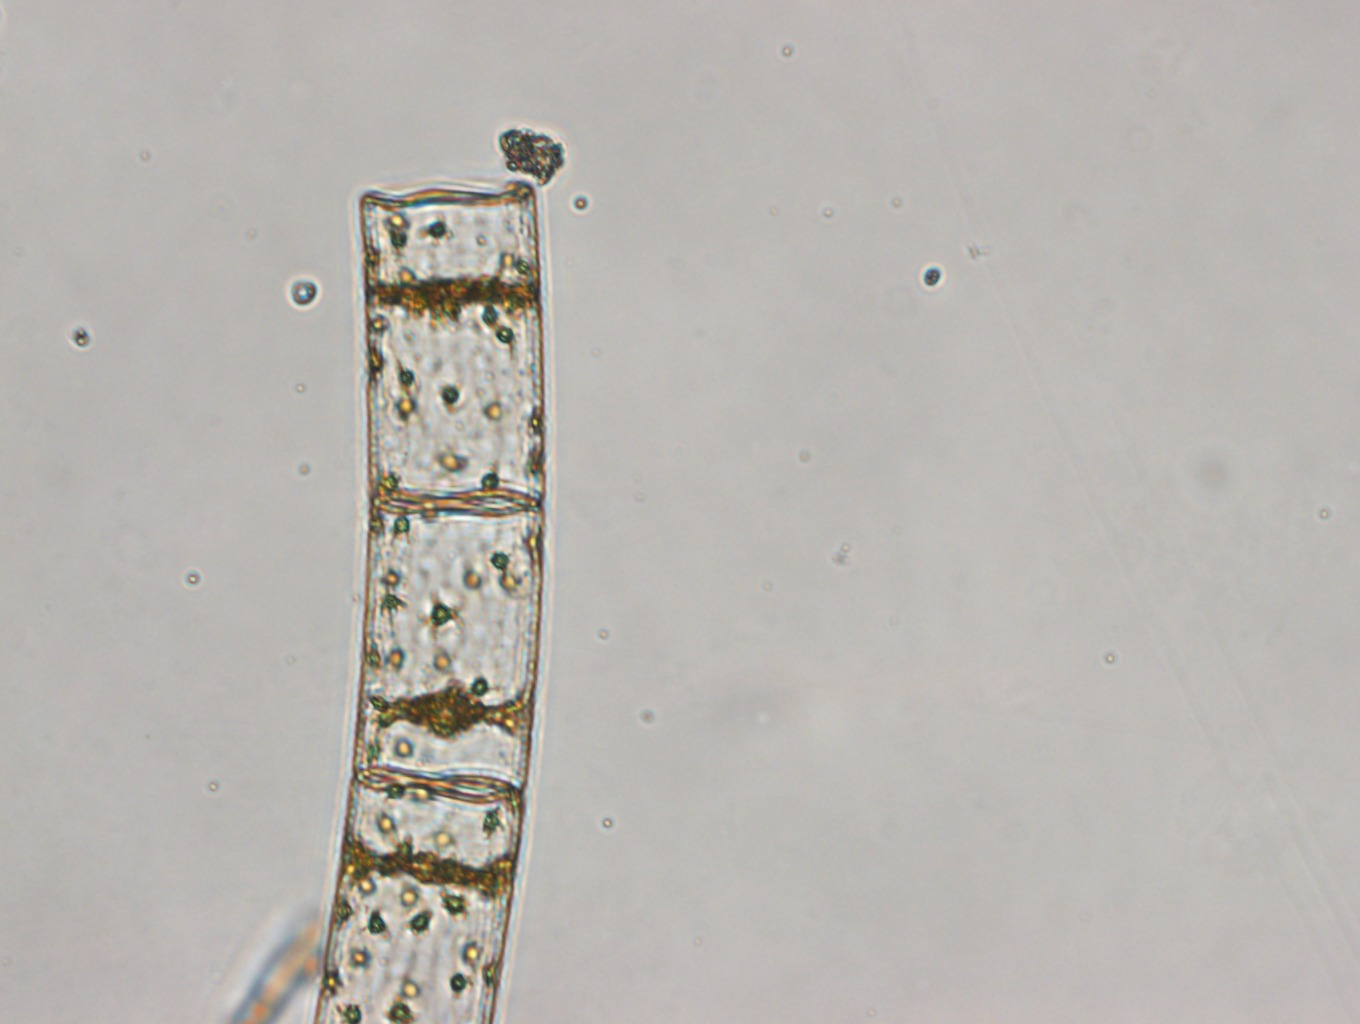guinardia flaccida: (315, 181, 550, 1023)
